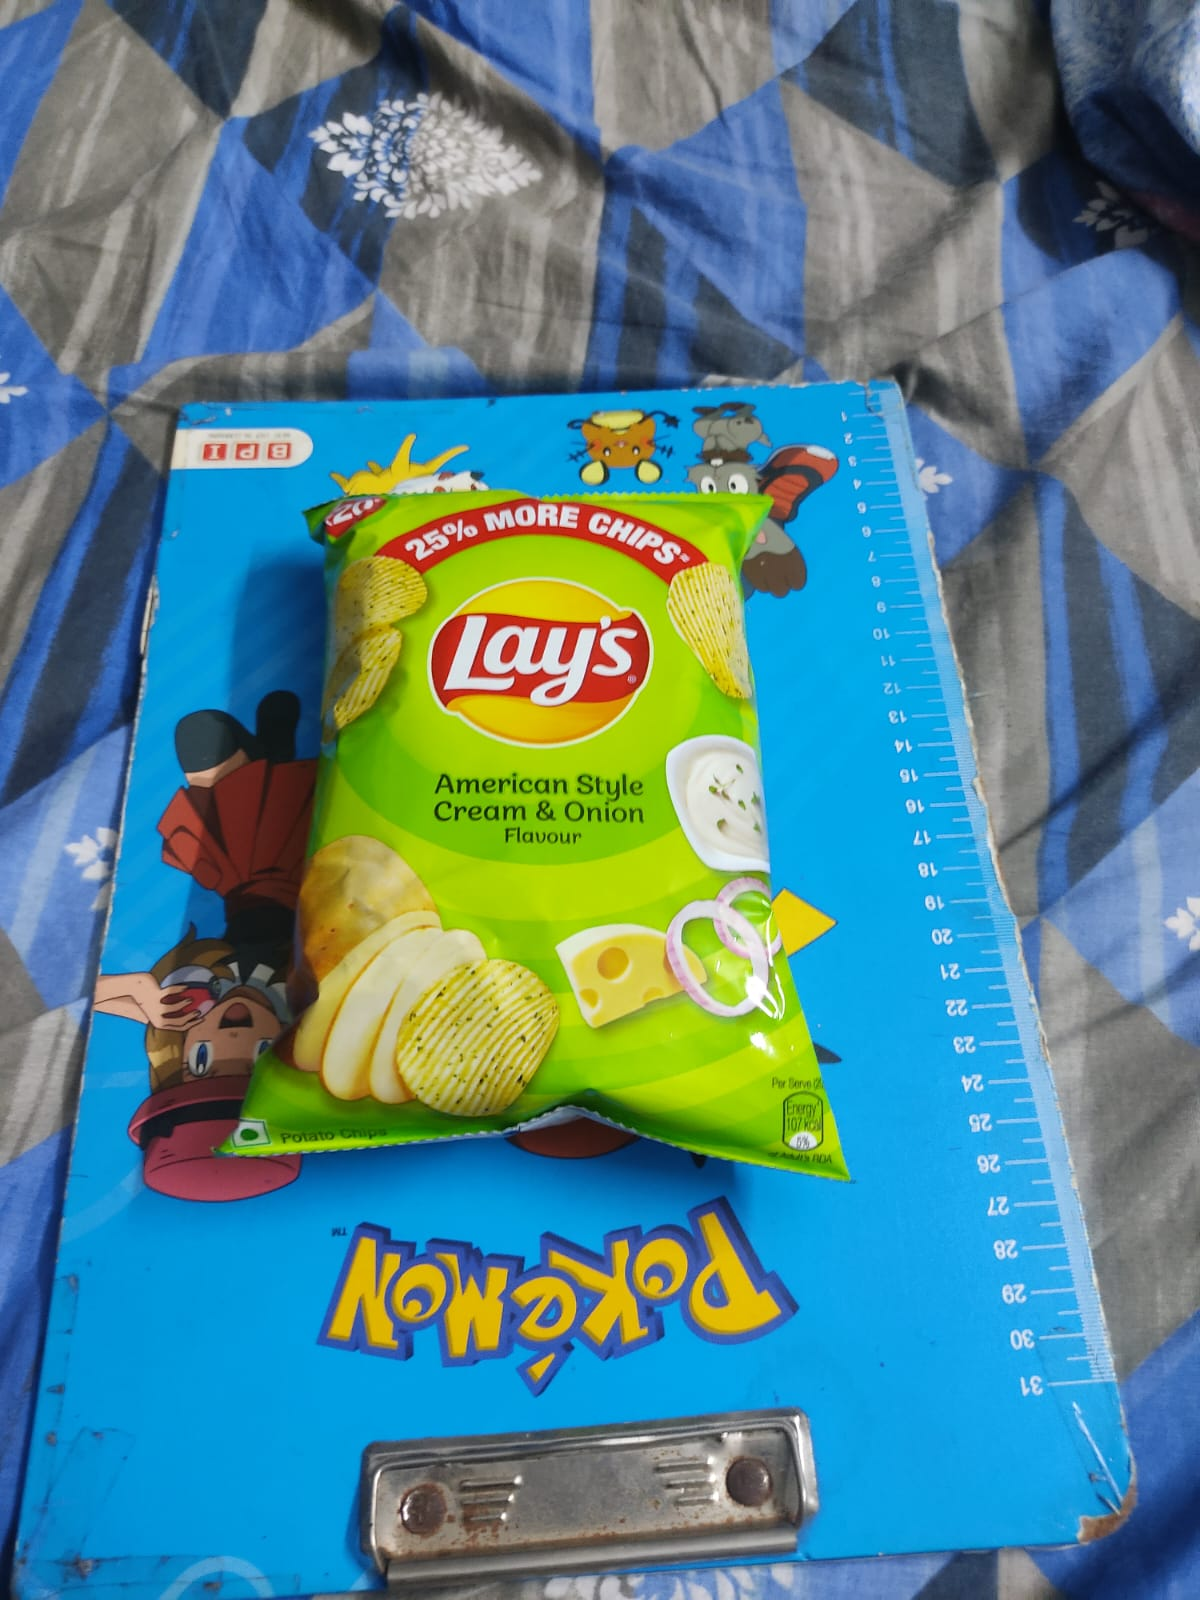020_GreenLays: (277, 500, 814, 1126)
